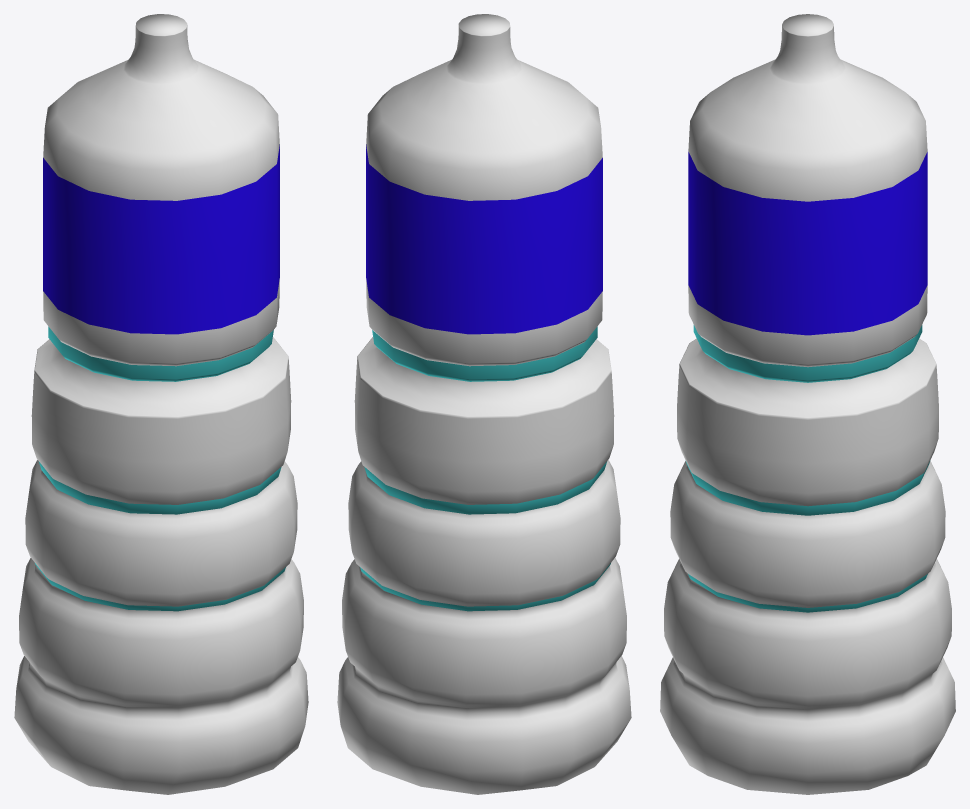
The picture shows the model from 3 angles, left to right: view 1: azimuth 30°, elevation 25°; view 2: azimuth 150°, elevation 25°; view 3: azimuth 270°, elevation 25°; orthographic projection.
Visible parts, largest first — view 1: 円, 円.001; view 2: 円, 円.001; view 3: 円, 円.001.
Boxes of the visible parts, box(x1,y1,x2,y2) form: 円: box(14, 14, 308, 794); 円.001: box(35, 326, 285, 611); 円: box(337, 14, 631, 794); 円.001: box(360, 326, 610, 611); 円: box(660, 14, 955, 794); 円.001: box(685, 325, 930, 612).
Size of the model in its own units: 26.73 by 72.87 by 26.73.
